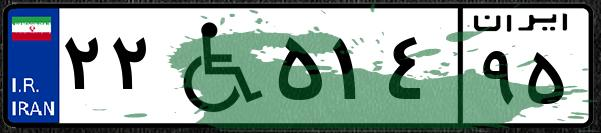1: (330, 28, 385, 110)
2: (57, 26, 110, 100), (110, 28, 158, 98)
4: (385, 28, 445, 110)
5: (270, 28, 330, 110), (525, 38, 570, 115)
9: (475, 38, 525, 113)
ژ (معلولین و جانبازان): (158, 12, 270, 120)
